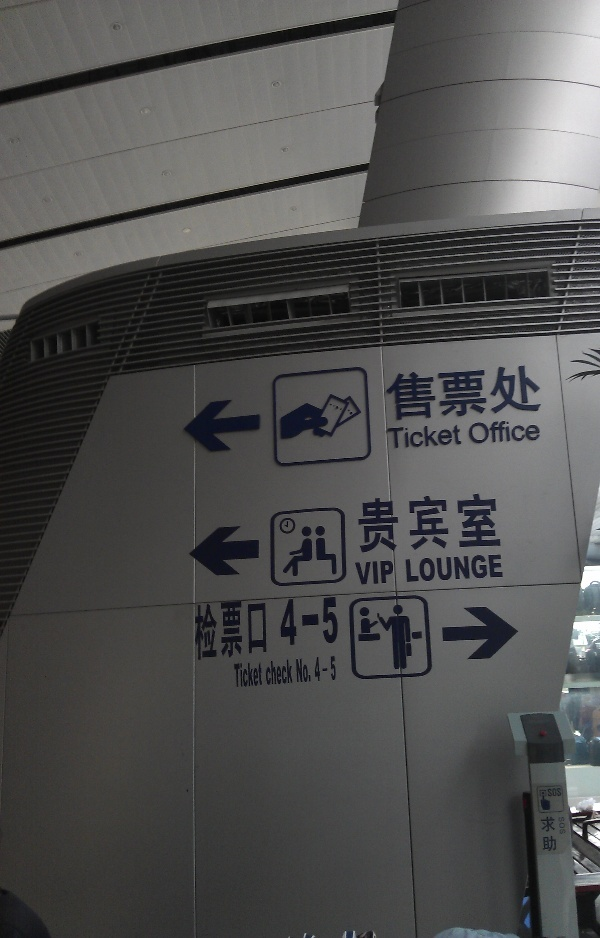text: (193, 598, 208, 662), (209, 598, 224, 662), (225, 598, 240, 662), (241, 598, 256, 662), (385, 361, 400, 424), (401, 361, 416, 424), (417, 361, 432, 424), (433, 361, 448, 424), (449, 361, 464, 424), (465, 361, 480, 424), (481, 361, 496, 424), (497, 361, 512, 424), (513, 361, 528, 424), (529, 361, 544, 424), (369, 492, 384, 553), (385, 492, 400, 553), (401, 492, 416, 553), (417, 492, 432, 553), (433, 492, 448, 553), (449, 492, 464, 553), (465, 492, 480, 553), (481, 492, 496, 553), (257, 598, 271, 662), (289, 596, 304, 648), (305, 596, 320, 648), (321, 596, 336, 648), (357, 492, 368, 553), (278, 596, 288, 648), (545, 816, 558, 853), (417, 553, 432, 585), (433, 553, 448, 585), (449, 553, 464, 585), (465, 553, 480, 585), (481, 553, 496, 585), (241, 661, 256, 689), (481, 417, 496, 445), (497, 417, 512, 445), (513, 417, 528, 445), (401, 423, 416, 450), (417, 423, 432, 450), (433, 423, 448, 450), (273, 659, 288, 686), (369, 560, 384, 586), (321, 656, 336, 682), (386, 423, 400, 450), (449, 423, 463, 450), (405, 553, 416, 585), (355, 560, 368, 586), (468, 417, 480, 445), (529, 417, 541, 445), (497, 553, 506, 585), (385, 560, 395, 586), (497, 492, 501, 553), (295, 658, 304, 683), (257, 661, 265, 689), (337, 596, 341, 648), (233, 661, 240, 689), (265, 659, 272, 686), (313, 656, 320, 682), (305, 658, 312, 683), (540, 816, 544, 853), (289, 659, 294, 686), (548, 788, 560, 798), (561, 816, 567, 835), (558, 816, 560, 835), (337, 656, 338, 682), (561, 788, 562, 798)
